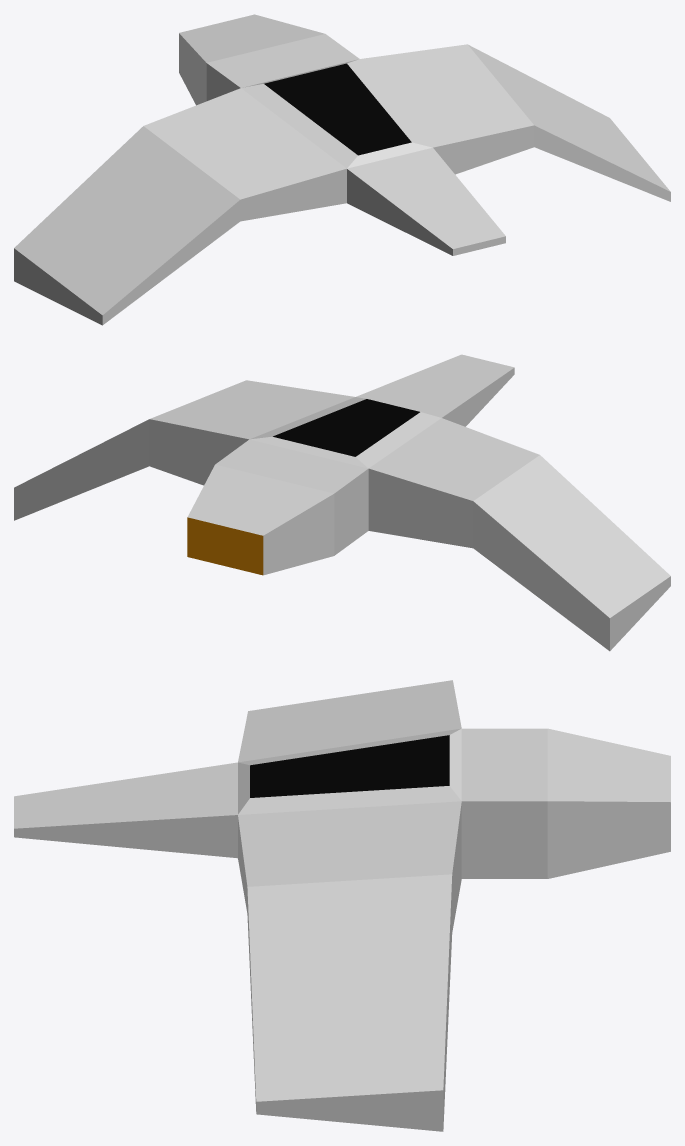
Rendered from SpaceShip.fbx.
3 renders of one model, top to bottom at view 1: azimuth 30°, elevation 25°; view 2: azimuth 150°, elevation 25°; view 3: azimuth 270°, elevation 25°, orthographic. The views are drawn at different scales.
Visible parts, largest first — view 1: Cube; view 2: Cube; view 3: Cube.
Part boxes in pixels (left/top/right/bottom): Cube: left=14, top=14, right=670, bottom=325; Cube: left=14, top=354, right=670, bottom=651; Cube: left=14, top=680, right=670, bottom=1131.
Bounding box in the file's own units: 2001 × 480 × 1528.
